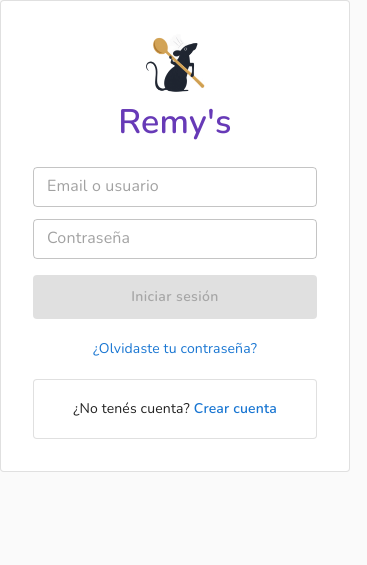
Test case: AuthContext in Spanish › should keep showing the server's own sentence while the route carries no code
Type "chef" into the field with placeholder "Email o usuario" at point(175, 187), box top-left (33, 167), bottom-right (317, 207)
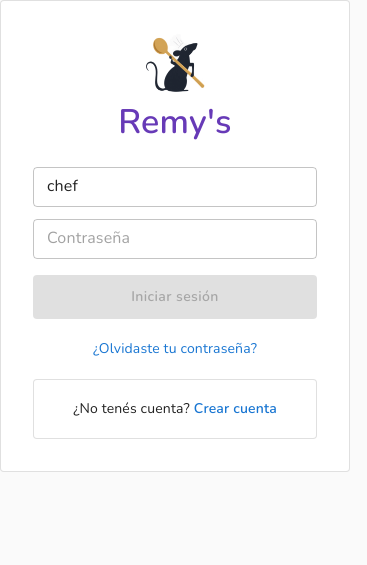
Type "Password1" into the password field with placeholder "Contraseña" at point(175, 239), box top-left (33, 219), bottom-right (317, 259)
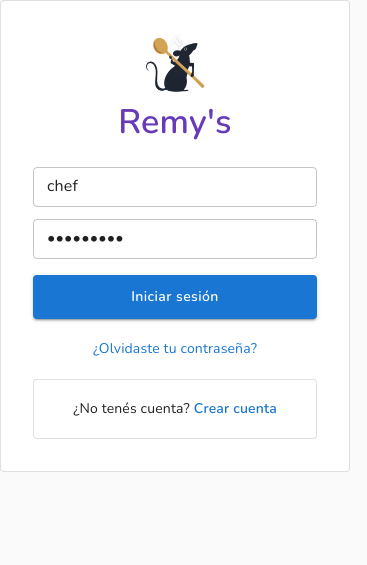
Click the button "Iniciar sesión" at point(175, 297), box top-left (33, 275), bottom-right (317, 319)
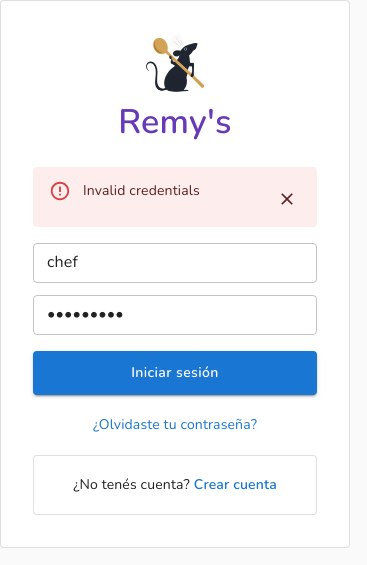
Expected: the text "Invalid credentials" is shown, top-left (83, 181), bottom-right (200, 200)
